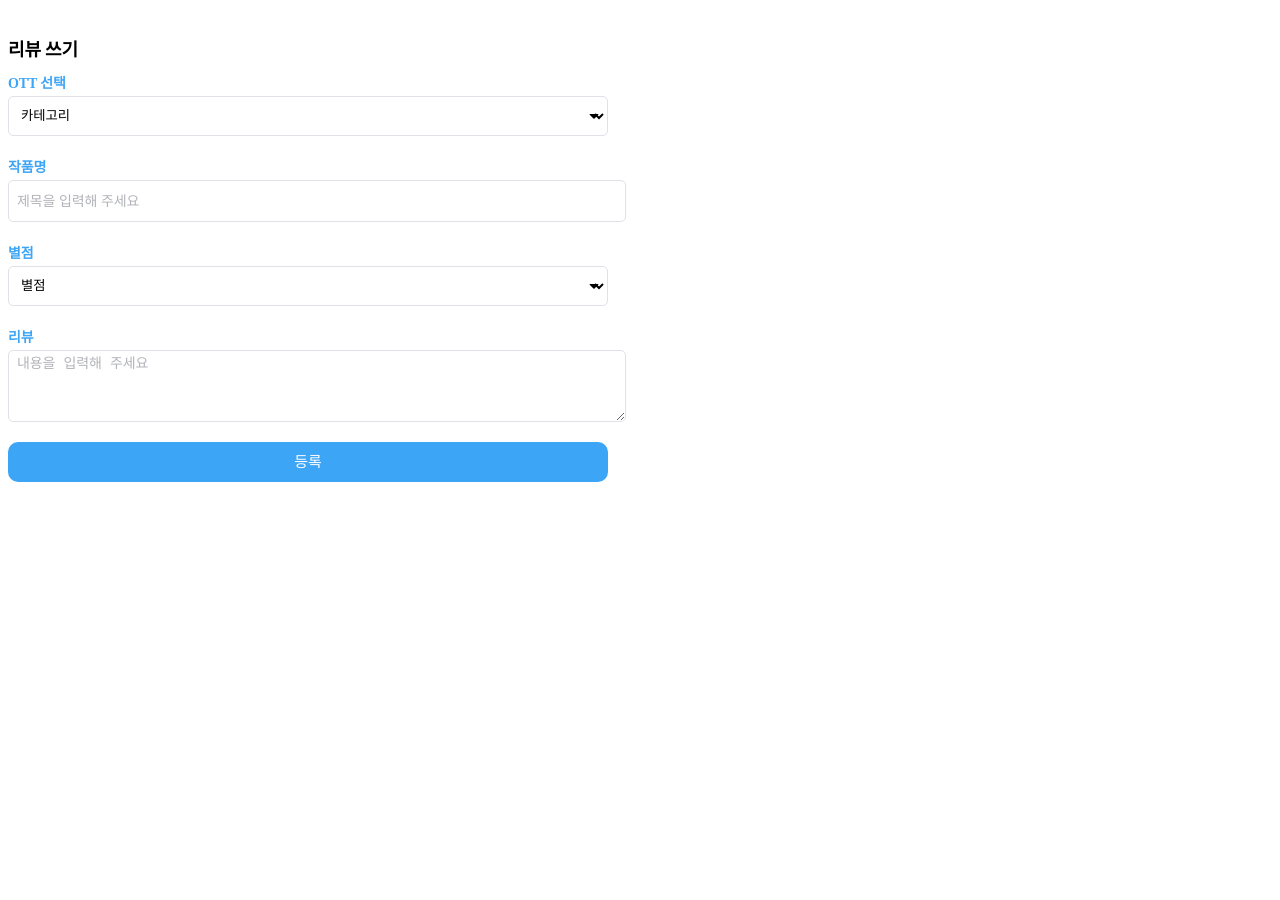
ReviewRegister 컴포넌트 › 등록 버튼을 누를 때 리뷰가 등록되는지 확인
Note: 입력 필드에 값 입력
Step 1. Select "Amazon Prime (아마존프라임)" in the dropdown labelled "OTT 선택" → {"x": 308, "y": 116}, box [8,96,608,136]
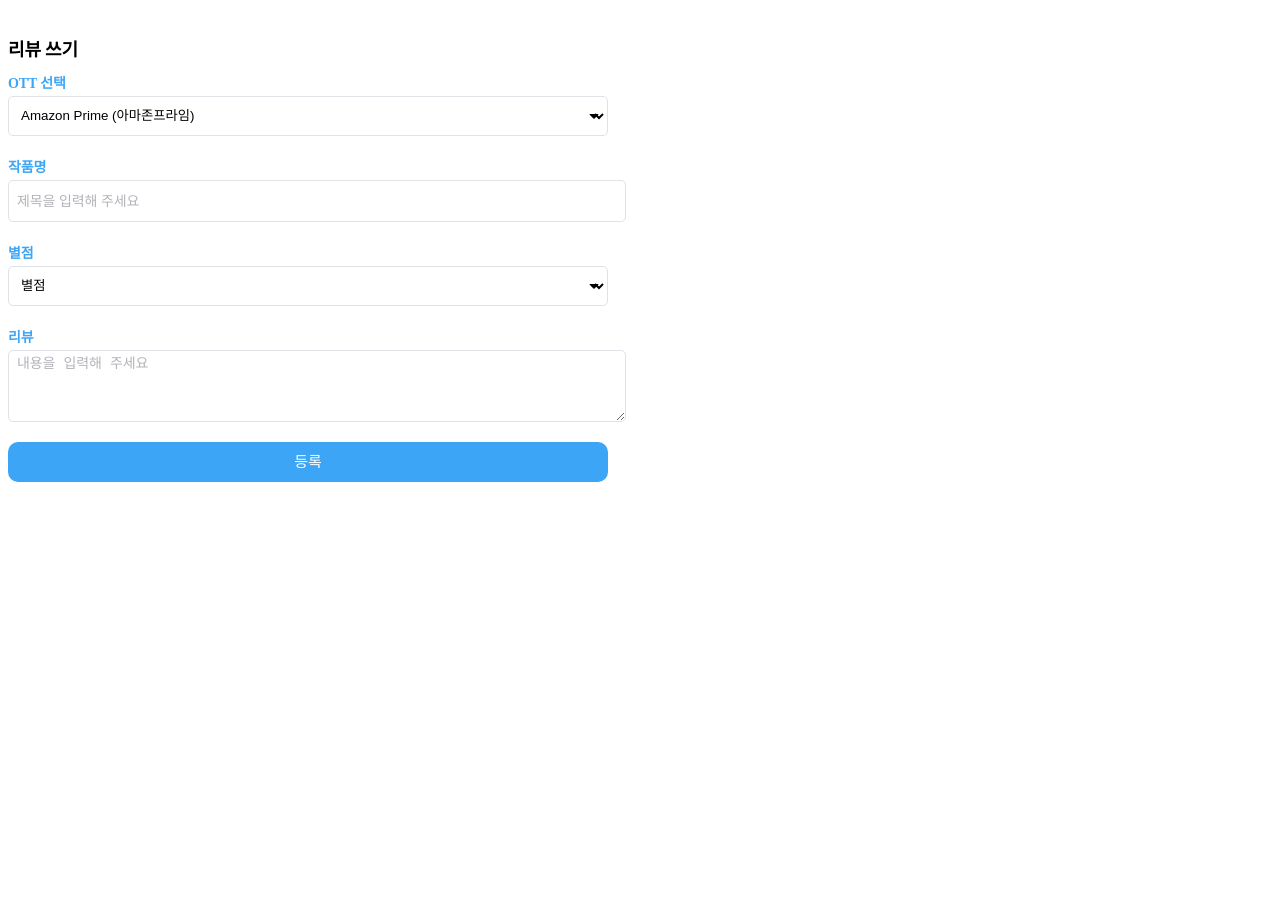
Step 2. Type "테스트 제목" into the field labelled "작품명" → {"x": 317, "y": 201}, box [8,180,626,222]
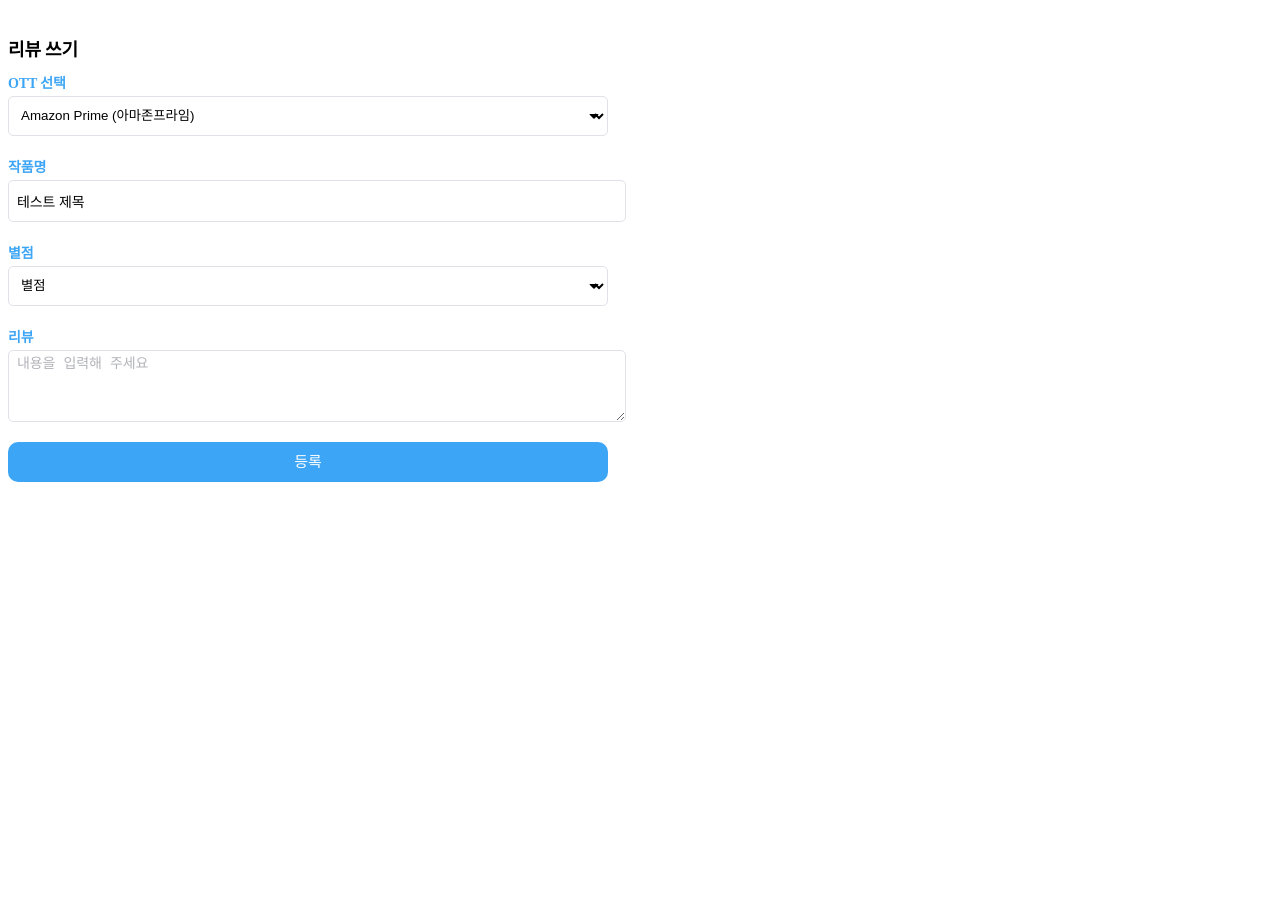
Step 3. Select "5점" in the dropdown labelled "별점" → {"x": 308, "y": 286}, box [8,266,608,306]
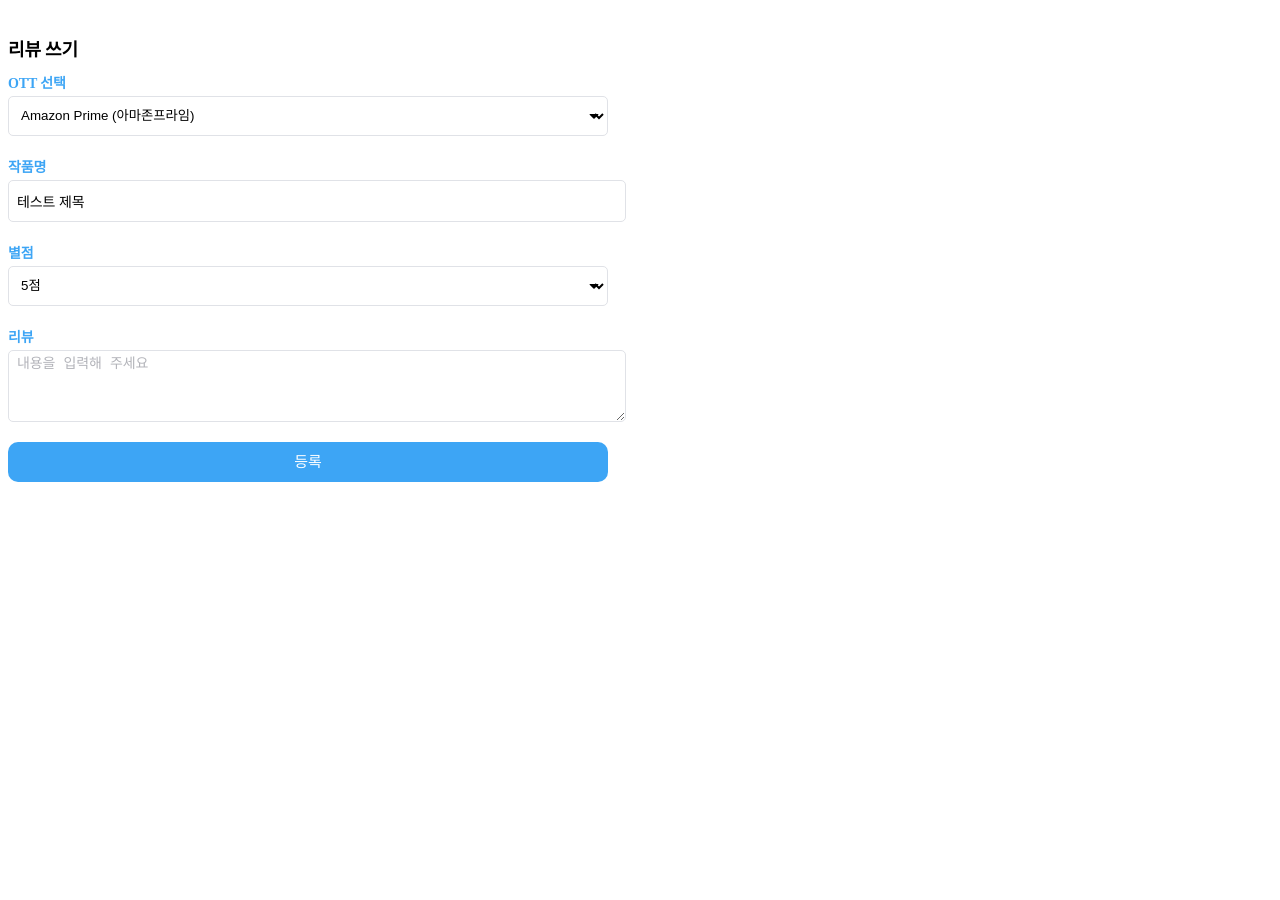
Step 4. Type "테스트 리뷰입니다." into the text box labelled "리뷰" → {"x": 317, "y": 386}, box [8,350,626,422]
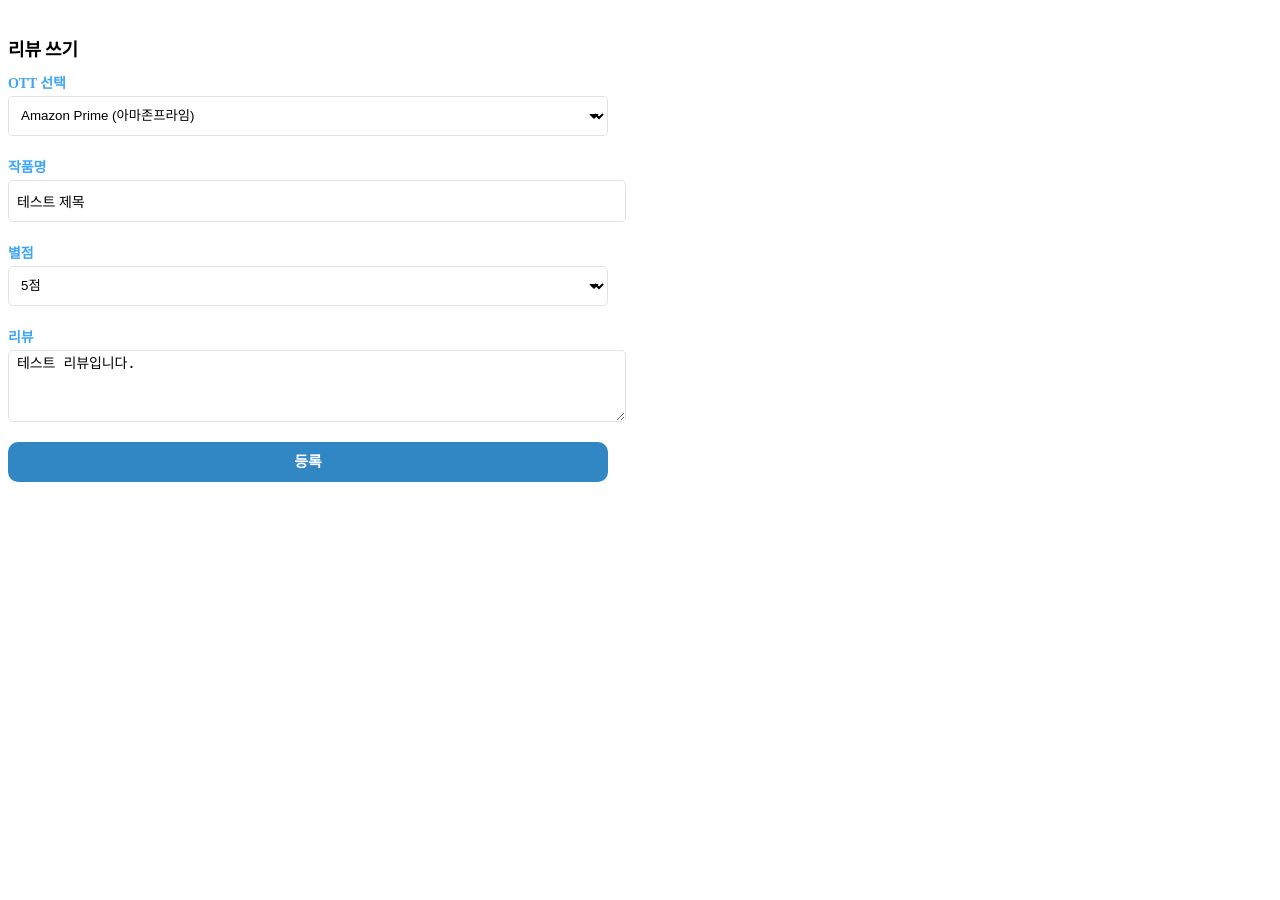
Note: 등록 버튼 클릭
Step 5. Click the button "등록" → {"x": 308, "y": 462}, box [8,442,608,482]
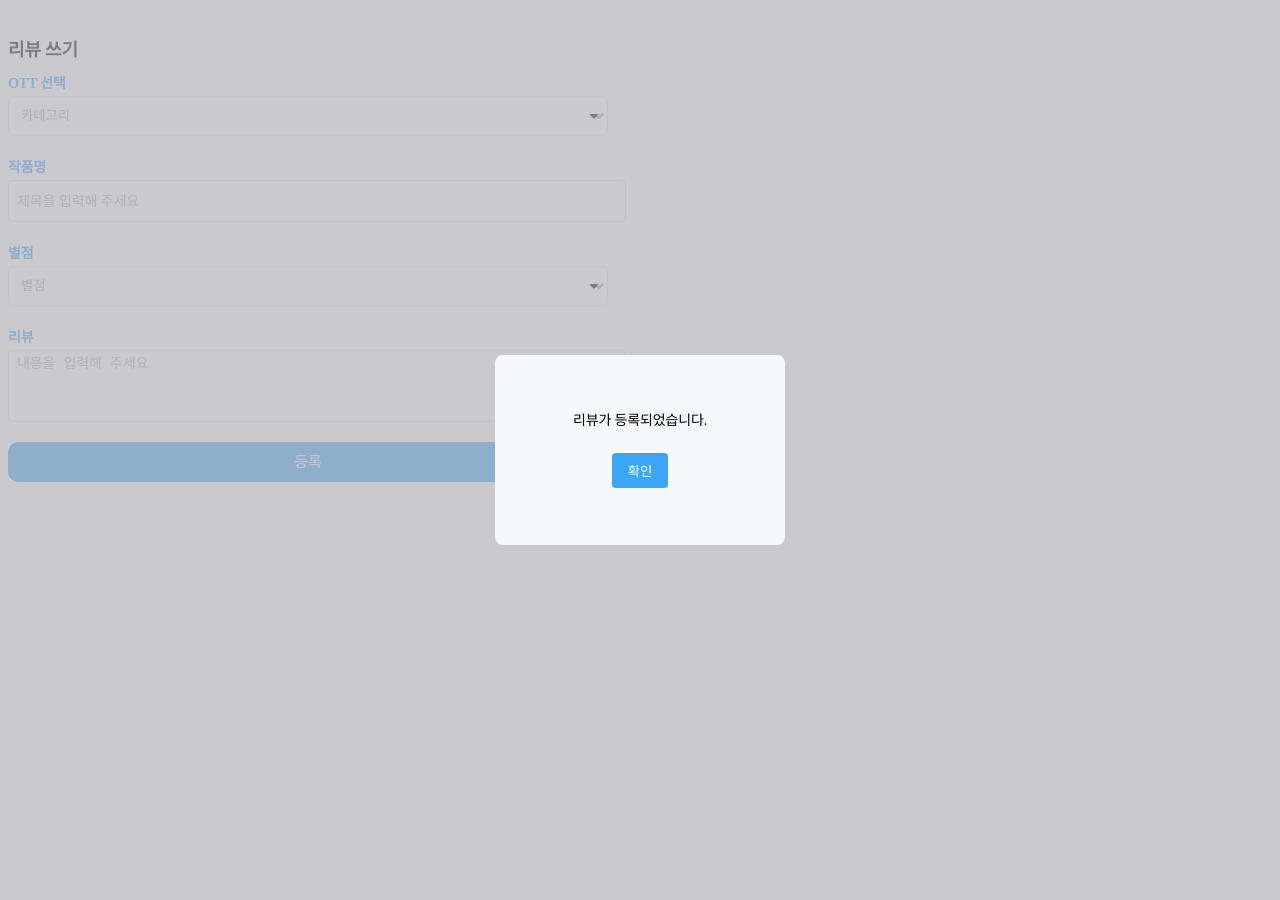
Expected: the text "리뷰가 등록되었습니다." is shown, [573,413,707,428]
